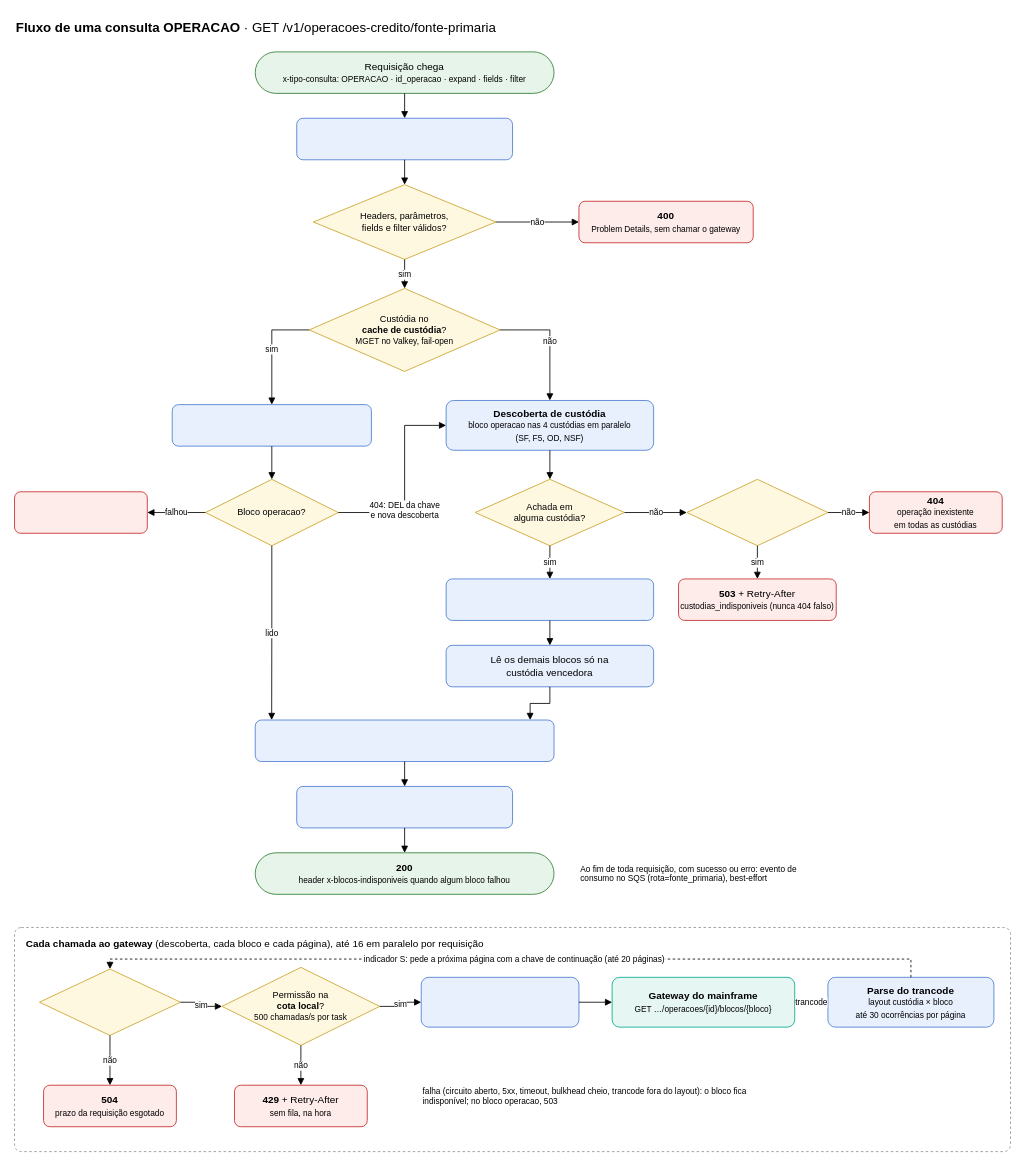
Image size: 1025x1166. Some labels were removed from this diagram. Each missing label, with the box of its shape:
503 + Retry-After custodias_indisponiveis: (14, 491, 147, 533)
Alguma custódia indisponível?: (686, 478, 828, 546)
Filtro e seleção de campos em memória, sobre o que a fonte devolveu: (296, 786, 513, 828)
Inicia o prazo da requisição OPERACAO 2,5 s · CLIENTE/CONTA 6 s: (296, 117, 513, 160)
Lê os blocos pedidos na custódia lembrada: (171, 404, 371, 446)
Monta a operação bloco que falhou volta null: bloco indisponível (ADR-0013): (254, 719, 554, 762)
Precedência de custódia NSF > SF > F5 > OD · grava a vencedora no cache: (445, 578, 654, 620)
Retry · circuit breaker por custódia × bloco bulkhead por custódia: (420, 976, 579, 1027)
Vaga e prazo restantes?: (39, 968, 181, 1035)
